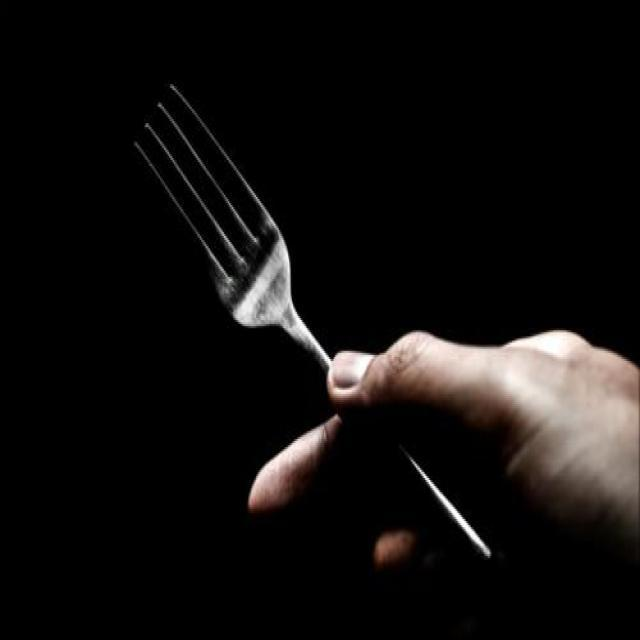spoon: (135, 86, 329, 364)
